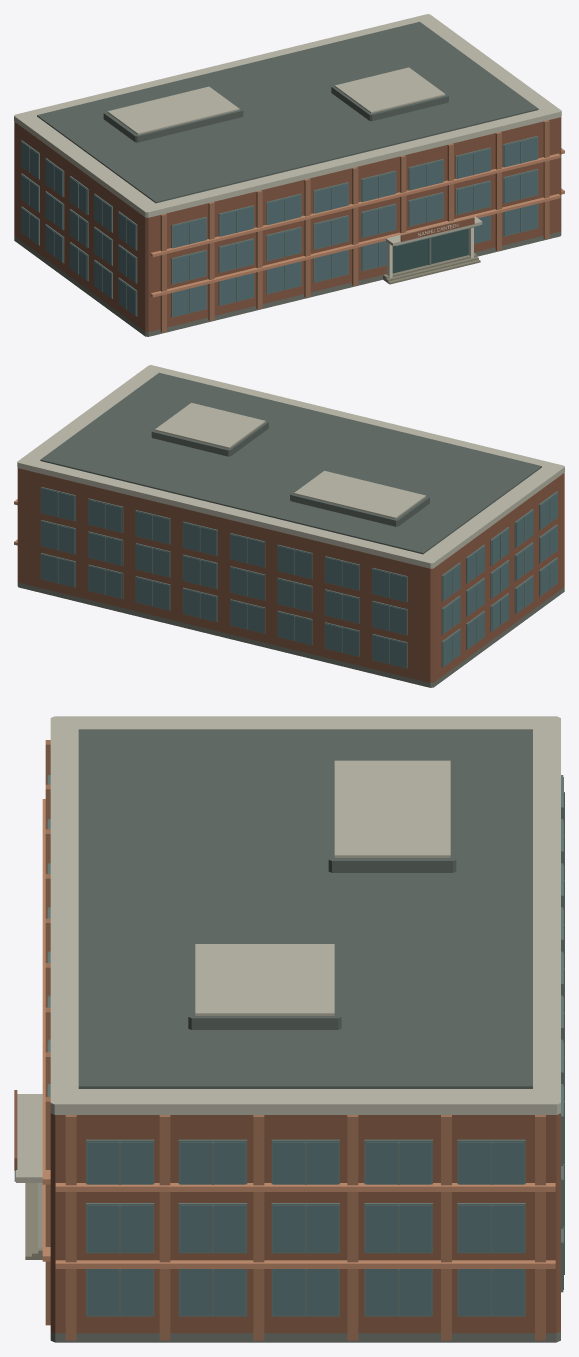
File: canteen.glb
3 views of the same model, one above another, from view 1: azimuth 30°, elevation 25°; view 2: azimuth 150°, elevation 25°; view 3: azimuth 270°, elevation 25° (orthographic). The views are drawn at different scales.
Parts seen in each view (by area): view 1: form, glaze, relief, glowing; view 2: form, glaze, relief, glowing; view 3: form, glaze, relief, glowing.
Part boxes in pixels (x1,y1,x2,y2): form: (14,14,561,336); glaze: (21,137,537,316); relief: (21,136,564,317); glowing: (69,177,300,224); form: (17,365,564,687); glaze: (41,488,557,667); relief: (14,487,557,668); glowing: (136,511,509,644); form: (14,716,560,1342); glaze: (47,777,563,1315); relief: (14,775,564,1316); glowing: (47,865,563,1184).
Bounding box in the file's own units: 36.48 × 11.04 × 21.6.
